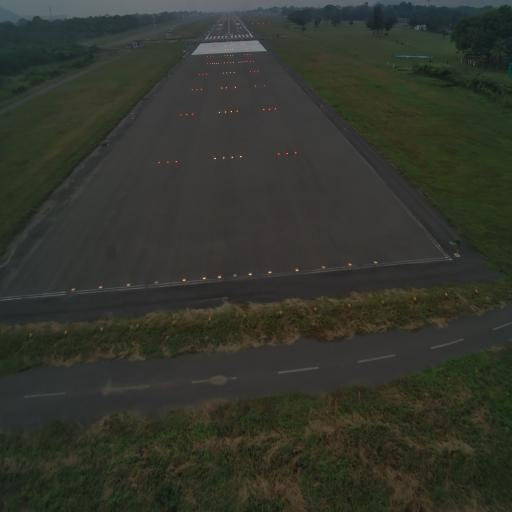off: (232, 268, 238, 282), (153, 276, 159, 289)
on: (346, 258, 355, 270), (294, 266, 302, 277), (267, 266, 274, 278), (320, 260, 327, 272), (97, 283, 104, 294), (126, 279, 132, 291), (201, 272, 207, 284), (69, 284, 76, 294), (181, 276, 188, 286), (215, 272, 223, 280), (221, 152, 226, 162), (230, 152, 235, 162), (156, 158, 162, 166), (276, 150, 282, 158), (373, 256, 378, 265), (174, 157, 179, 166), (284, 150, 289, 158), (248, 271, 253, 278), (166, 158, 170, 166), (212, 155, 217, 161), (293, 150, 298, 156), (239, 153, 242, 161)
